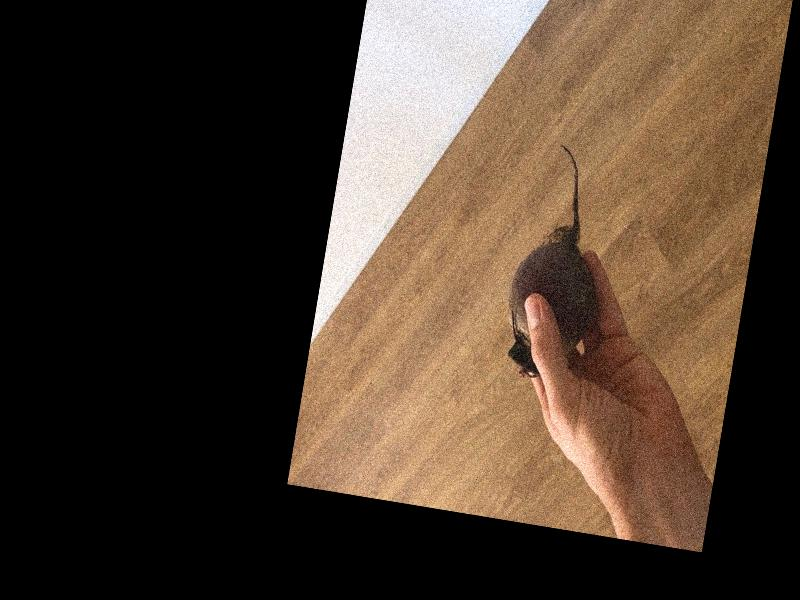Beet: (497, 139, 618, 385)
